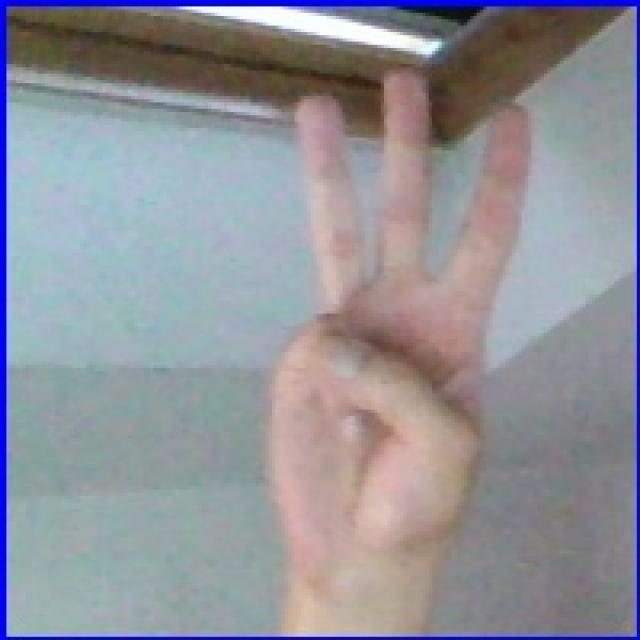Letra-W: (237, 59, 561, 567)
